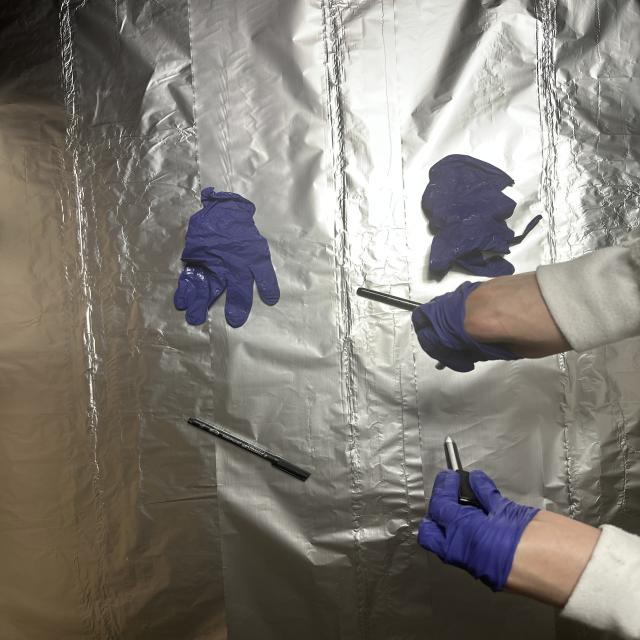glove_partial: (418, 470, 607, 606), (412, 270, 567, 370)
